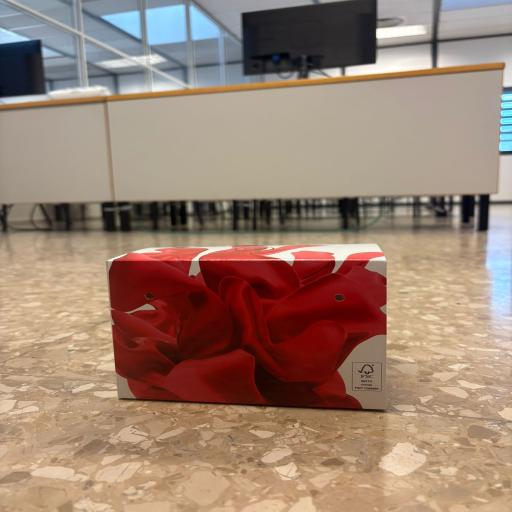caja_2: (106, 243, 387, 409)
